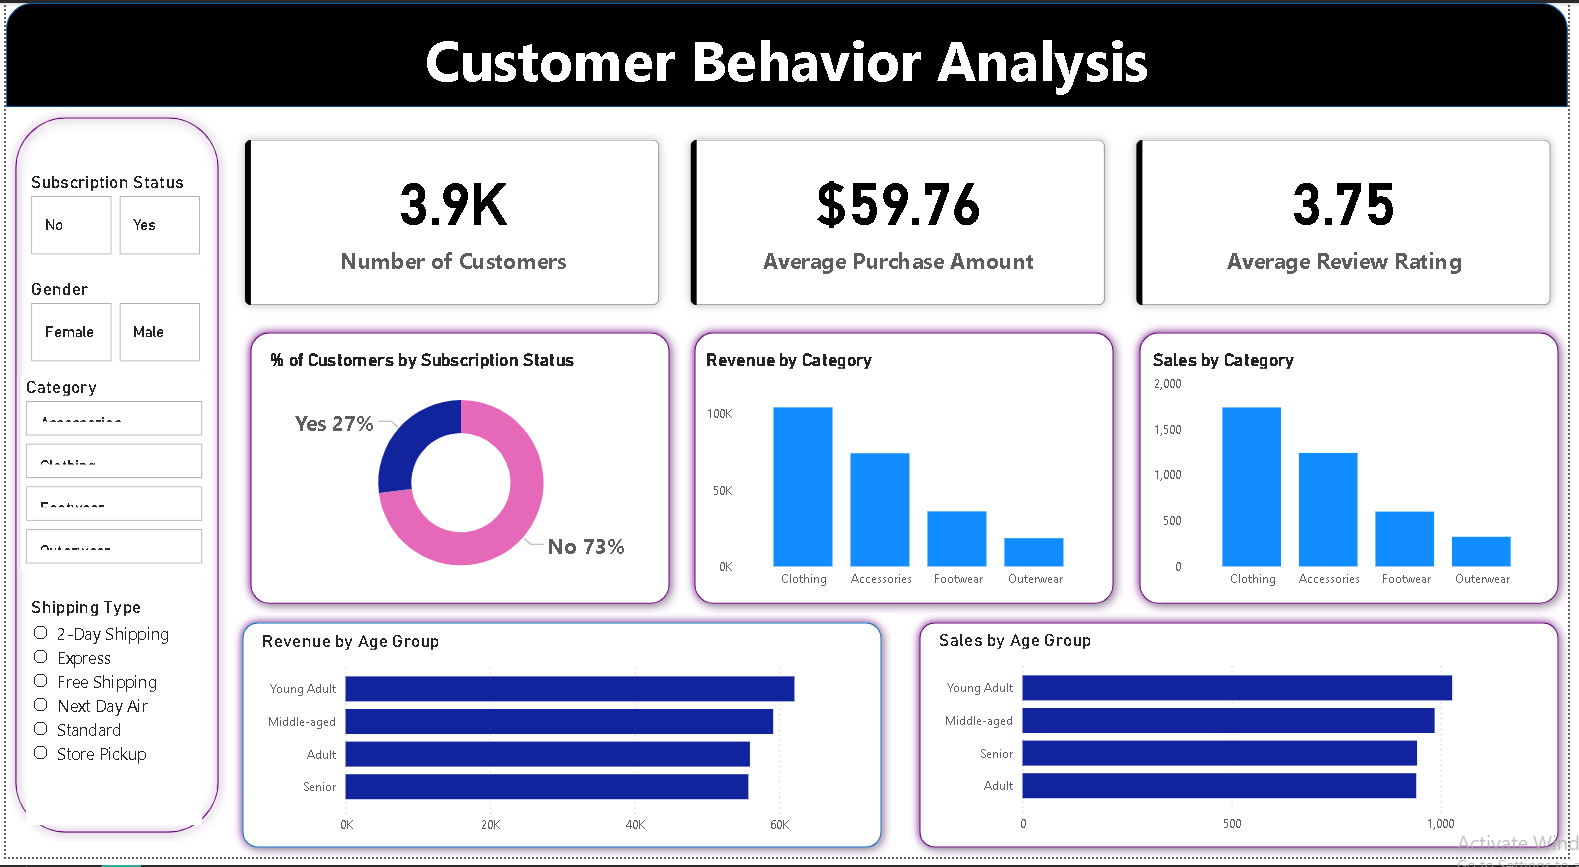

Layout of this report page (visuals, bound fields, positions):
{"tool":"powerbi","page":{"name":"Page 1","canvas":[1500,820],"ordinal":0},"visuals":[{"type":"cardVisual","fields":{"Data":["public customer.Number of Customers","public customer.Average Purchase Amount","public customer.Average Review Rating"]},"box":[212.9,115.3,1286.5,191.6],"z":2000},{"type":"shape","box":[218.3,585.6,631.7,234.2],"z":2500,"group":"g1"},{"type":"shape","box":[0,0,1499.5,100.2],"z":3000},{"type":"textbox","box":[0,12.4,1499.4,102.9],"z":4000},{"type":"shape","box":[225.4,307,420.5,278.6],"z":5000},{"type":"donutChart","title":"% of Customers by Subscription Status","fields":{"Category":["public customer.subscription_status"],"Y":["CountNonNull(public customer.customer_id)"]},"box":[248.4,331.8,376.2,237.8],"z":6000},{"type":"shape","box":[1078.9,307,420.5,278.6],"z":7000},{"type":"shape","box":[652.1,307,420.5,278.6],"z":8000},{"type":"clusteredColumnChart","title":"Revenue by Category","fields":{"Y":["Sum(public customer.purchase_amount)"],"Category":["public customer.category"]},"box":[667.2,331.8,385.1,237.8],"z":9000},{"type":"clusteredColumnChart","title":"Sales by Category","fields":{"Y":["CountNonNull(public customer.customer_id)"],"Category":["public customer.category"]},"box":[1096.6,331.8,385.1,237.8],"z":10000},{"type":"shape","box":[0,100.8,213.2,704.8],"z":11000},{"type":"advancedSlicerVisual","fields":{"Values":["public customer.subscription_status"]},"box":[19.5,161.5,173.9,85.2],"z":12000},{"type":"advancedSlicerVisual","fields":{"Values":["public customer.gender"]},"box":[19.5,264.4,173.9,85.2],"z":13000},{"type":"advancedSlicerVisual","fields":{"Values":["public customer.category"]},"box":[14.2,358.4,179.2,186.3],"z":14000},{"type":"listSlicer","fields":{"Values":["public customer.shipping_type"]},"box":[19.5,569.6,168.6,220],"z":15000},{"type":"shape","box":[867.7,585.6,631.7,234.2],"z":16000},{"type":"clusteredBarChart","title":"Sales by Age Group","fields":{"Y":["CountNonNull(public customer.customer_id)"],"Category":["public customer.age_group"]},"box":[890.8,601.5,585.6,204.1],"z":17000},{"type":"clusteredBarChart","title":"Revenue by Age Group","fields":{"Y":["Sum(public customer.purchase_amount)"],"Category":["public customer.age_group"]},"box":[241.4,601.6,585.6,204.1],"z":17500,"group":"g1"},{"type":"group","id":"g1","title":"Group 1","box":[218.3,585.6,631.7,234.2],"z":17501}]}

Visuals, with their boxes in screenshot pixels (x1, y1, x2, y2), scaled from the page's 1500x820 canvas onto the 1579x867 screenshot:
cardVisual - public customer.Number of Customers x public customer.Average Purchase Amount: (left=224, top=122, right=1578, bottom=324)
shape: (left=230, top=619, right=895, bottom=866)
shape: (left=0, top=0, right=1578, bottom=106)
textbox: (left=0, top=13, right=1578, bottom=122)
shape: (left=237, top=325, right=680, bottom=619)
"% of Customers by Subscription Status" donutChart: (left=261, top=351, right=657, bottom=602)
shape: (left=1136, top=325, right=1578, bottom=619)
shape: (left=686, top=325, right=1129, bottom=619)
"Revenue by Category" clusteredColumnChart: (left=702, top=351, right=1108, bottom=602)
"Sales by Category" clusteredColumnChart: (left=1154, top=351, right=1560, bottom=602)
shape: (left=0, top=107, right=224, bottom=852)
advancedSlicerVisual - public customer.subscription_status: (left=21, top=171, right=204, bottom=261)
advancedSlicerVisual - public customer.gender: (left=21, top=280, right=204, bottom=370)
advancedSlicerVisual - public customer.category: (left=15, top=379, right=204, bottom=576)
listSlicer - public customer.shipping_type: (left=21, top=602, right=198, bottom=835)
shape: (left=913, top=619, right=1578, bottom=866)
"Sales by Age Group" clusteredBarChart: (left=938, top=636, right=1554, bottom=852)
"Revenue by Age Group" clusteredBarChart: (left=254, top=636, right=871, bottom=852)
"Group 1" group: (left=230, top=619, right=895, bottom=866)
